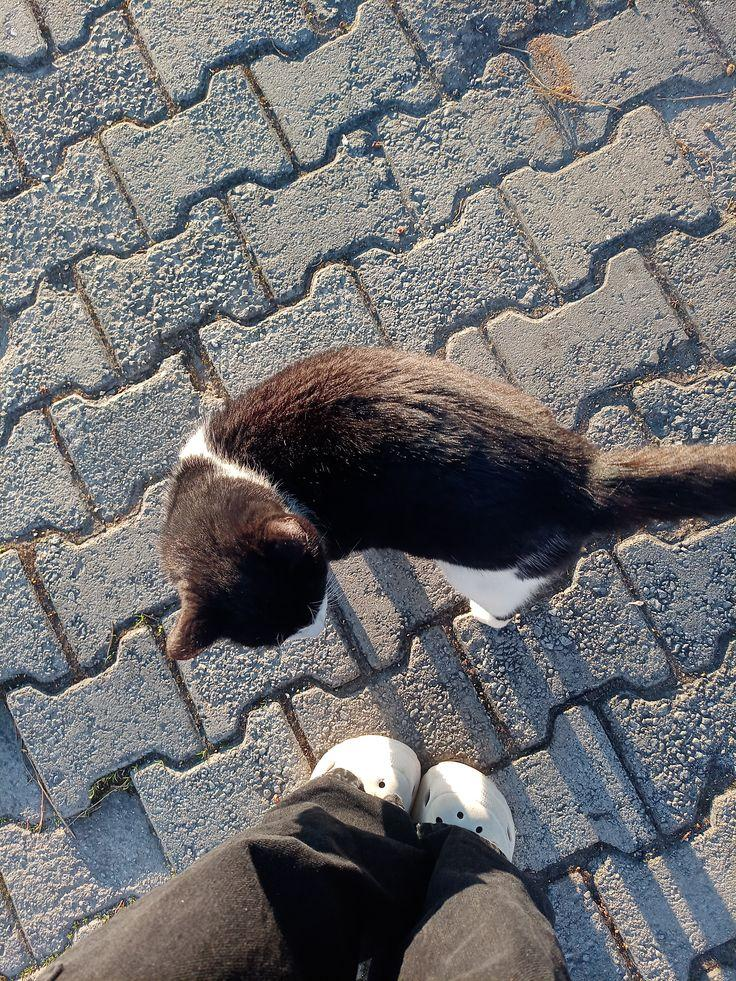kedo: (152, 336, 736, 677)
